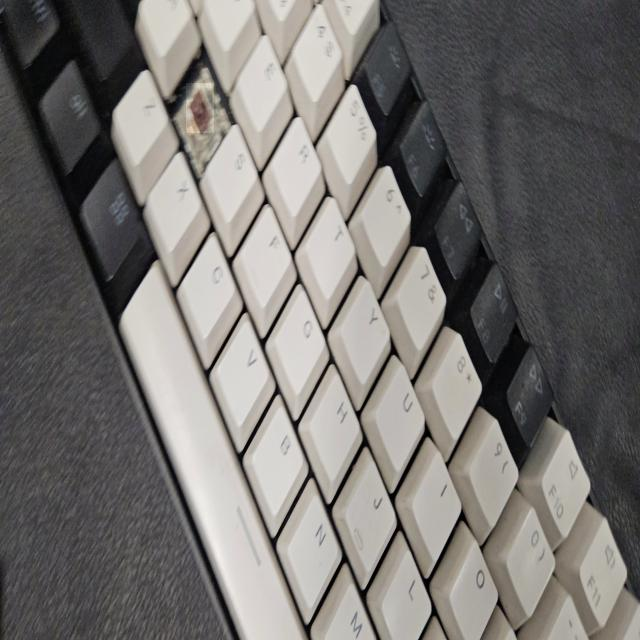C: (186, 83, 214, 133)
